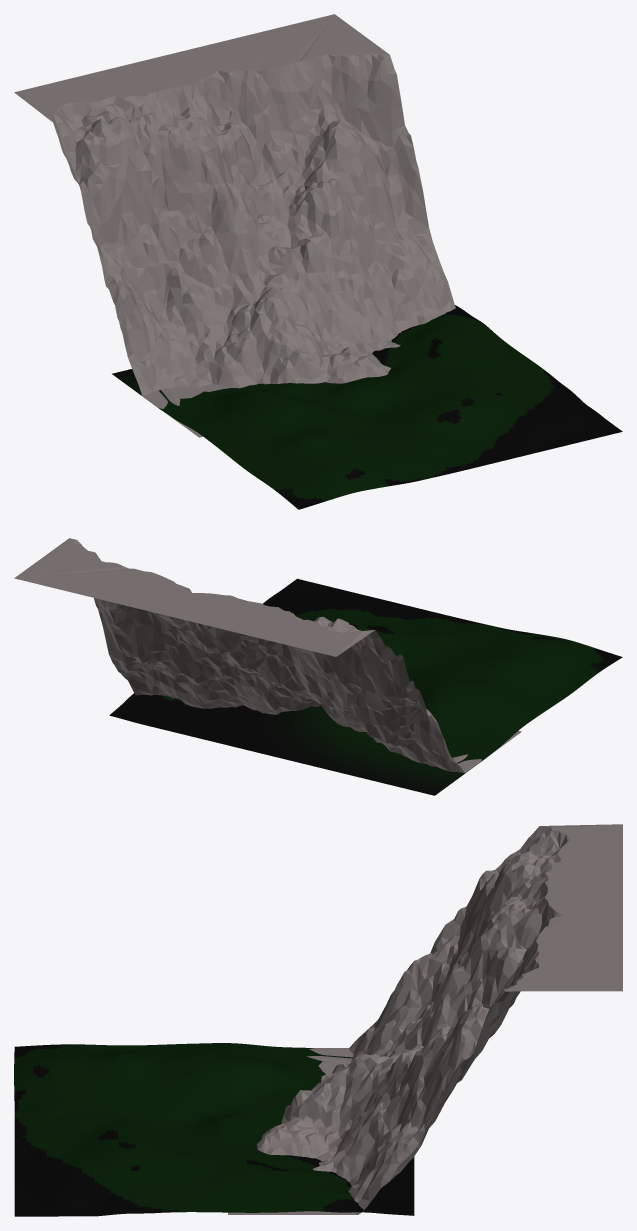
The model's file is world.glb.
The picture shows the model from 3 angles, top to bottom: view 1: azimuth 30°, elevation 25°; view 2: azimuth 150°, elevation 25°; view 3: azimuth 270°, elevation 25°; orthographic projection. The views are drawn at different scales.
Parts seen in each view (by area): view 1: Landscape.001, Grid; view 2: Landscape.001, Grid; view 3: Landscape.001, Grid.
Boxes of the visible parts, x1,y1,x2,y2 form: Landscape.001: (14,14,455,437); Grid: (112,305,622,509); Landscape.001: (14,538,521,773); Grid: (109,578,622,795); Landscape.001: (228,824,622,1214); Grid: (14,1043,414,1216).
Bounding box in the file's own units: 50.17 × 30.96 × 76.23.
Materials: 3 (1 with a texture image).
